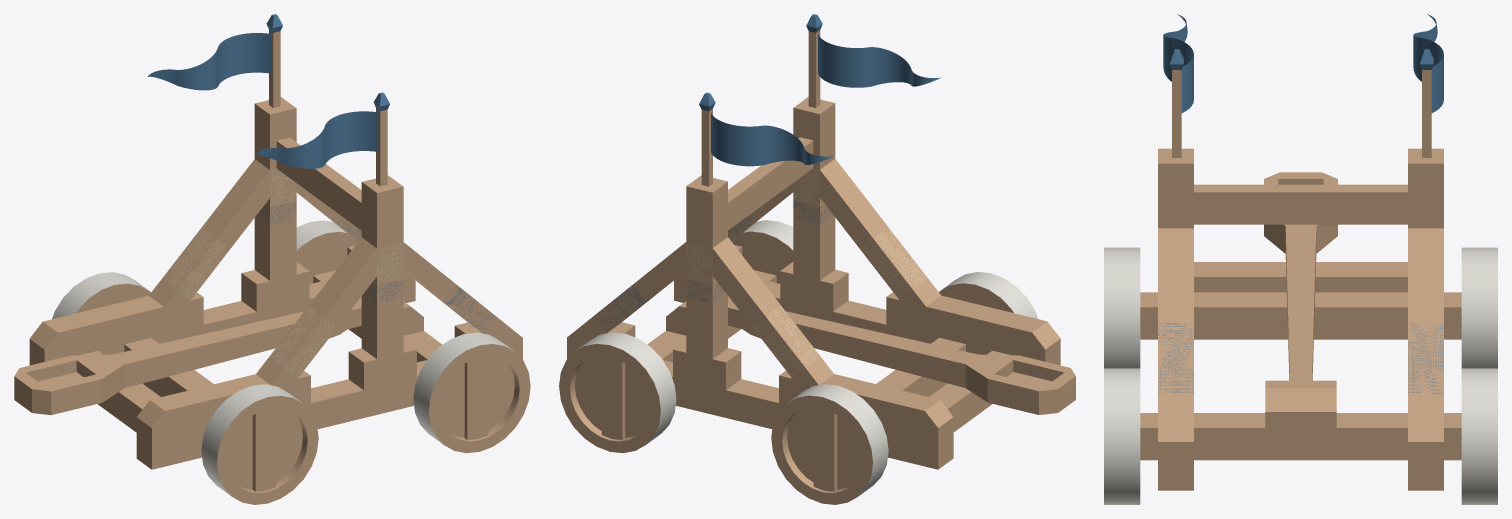
File: siegeCatapult.obj
3 views of the same model, side by side, from view 1: azimuth 30°, elevation 25°; view 2: azimuth 150°, elevation 25°; view 3: azimuth 270°, elevation 25° (orthographic). The views are drawn at different scales.
Visible parts, largest first — view 1: body 6, catapult 4, wheelBackRight 8, wheelFrontRight 11, flag 23, flag 22, wheelFrontLeft 11, wheelBackLeft 8; view 2: body 6, catapult 4, wheelFrontLeft 11, wheelBackLeft 8, flag 23, flag 22, wheelFrontRight 11, wheelBackRight 8; view 3: body 6, catapult 4, wheelFrontLeft 11, wheelFrontRight 11, wheelBackLeft 8, wheelBackRight 8, flag 22, flag 23.
Boxes of the visible parts, box(x1,y1,x2,y2) form: body 6: box(29, 97, 522, 469); catapult 4: box(14, 298, 361, 415); wheelBackRight 8: box(201, 384, 318, 504); wheelFrontRight 11: box(413, 332, 530, 453); flag 23: box(254, 92, 389, 186); flag 22: box(148, 14, 282, 107); wheelFrontLeft 11: box(296, 220, 357, 338); wheelBackLeft 8: box(52, 272, 150, 319); body 6: box(567, 97, 1060, 469); catapult 4: box(728, 298, 1075, 414); wheelFrontLeft 11: box(559, 332, 676, 452); wheelBackLeft 8: box(771, 384, 888, 504); flag 23: box(806, 14, 940, 107); flag 22: box(699, 92, 834, 186); wheelFrontRight 11: box(732, 220, 793, 338); wheelBackRight 8: box(939, 272, 1037, 318); body 6: box(1140, 148, 1461, 490); catapult 4: box(1264, 172, 1337, 380); wheelFrontLeft 11: box(1461, 368, 1497, 504); wheelFrontRight 11: box(1104, 368, 1140, 504); wheelBackLeft 8: box(1461, 247, 1497, 368); wheelBackRight 8: box(1104, 247, 1140, 368); flag 22: box(1413, 14, 1443, 157); flag 23: box(1163, 14, 1193, 157).
Bounding box in the file's own units: 17.35 × 13.3 × 11.57.
